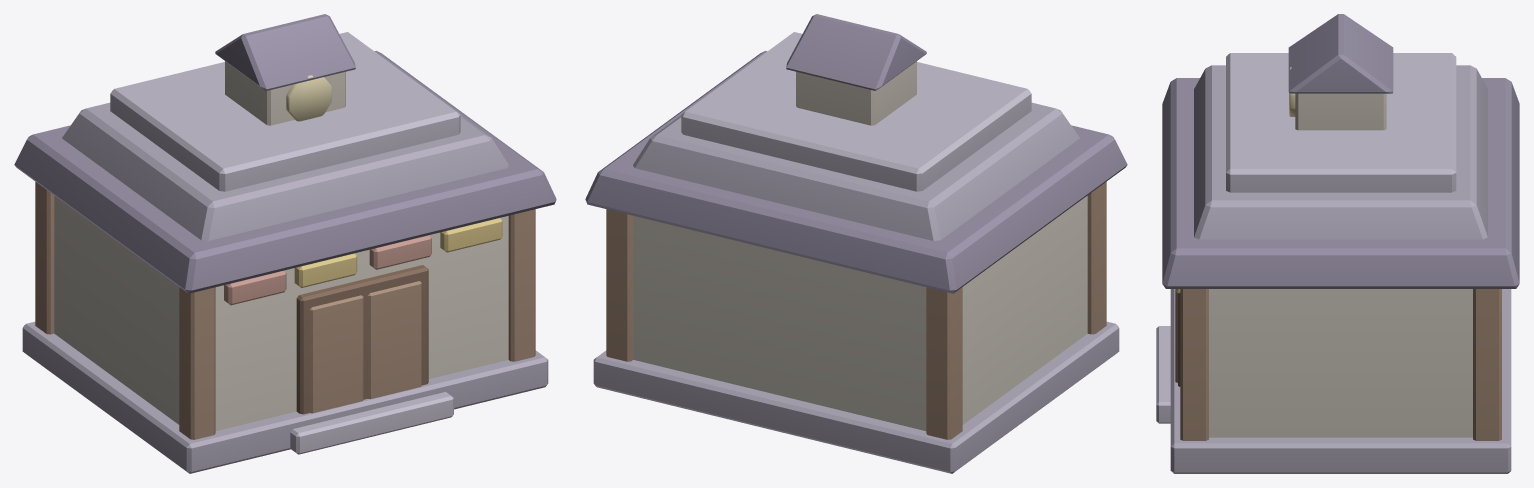
Rendered from plaza-hall.glb.
3 renders of one model, left to right at view 1: azimuth 30°, elevation 25°; view 2: azimuth 150°, elevation 25°; view 3: azimuth 270°, elevation 25°, orthographic.
Visible parts, largest first — view 1: plaza-hall; view 2: plaza-hall; view 3: plaza-hall.
Part boxes in pixels (x1=…): plaza-hall: x1=14, y1=14, x2=556, y2=473; plaza-hall: x1=585, y1=14, x2=1127, y2=473; plaza-hall: x1=1156, y1=14, x2=1519, y2=473.
Size of the model in its own units: 1.8 by 1.6 by 1.5.
